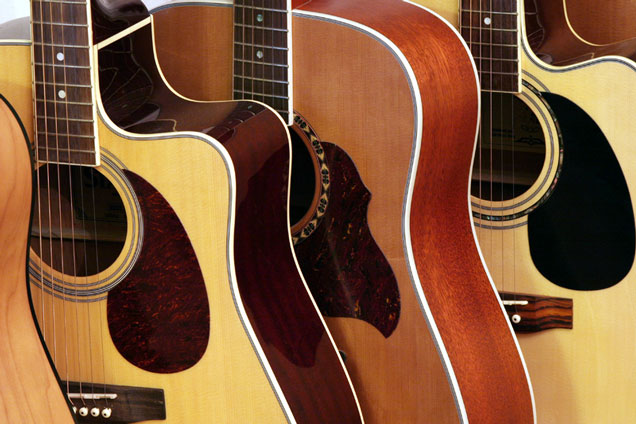guitar: (147, 1, 539, 423), (3, 1, 366, 423), (440, 1, 634, 424)
